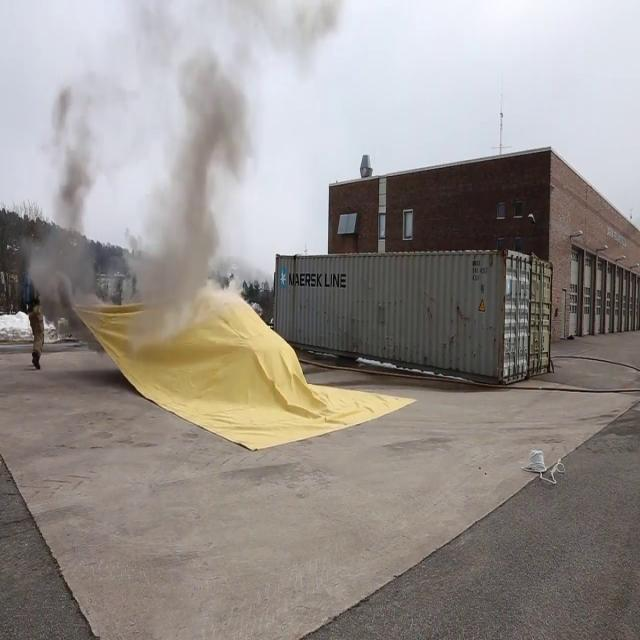Smoke: (125, 4, 258, 316), (20, 45, 104, 312)
